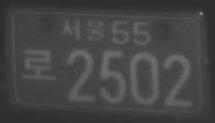0: (129, 49, 161, 107)
2: (65, 47, 97, 104), (161, 51, 193, 108)
5: (97, 48, 128, 106), (131, 20, 152, 47), (110, 19, 130, 46)
로: (20, 47, 58, 82)
서울_O: (60, 16, 107, 43)
